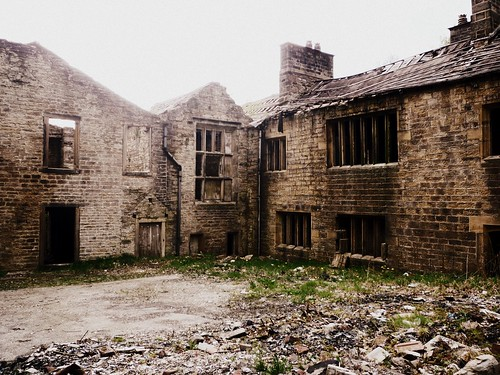building: (1, 32, 500, 275)
debris: (97, 266, 500, 375)
sky: (30, 2, 445, 80)
